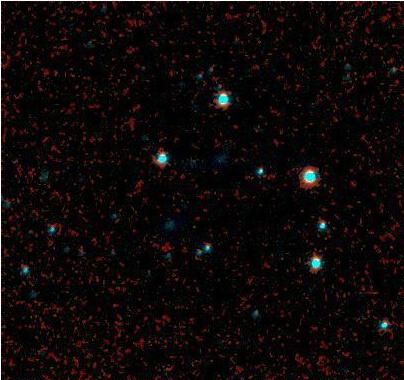star: (272, 243, 302, 273)
